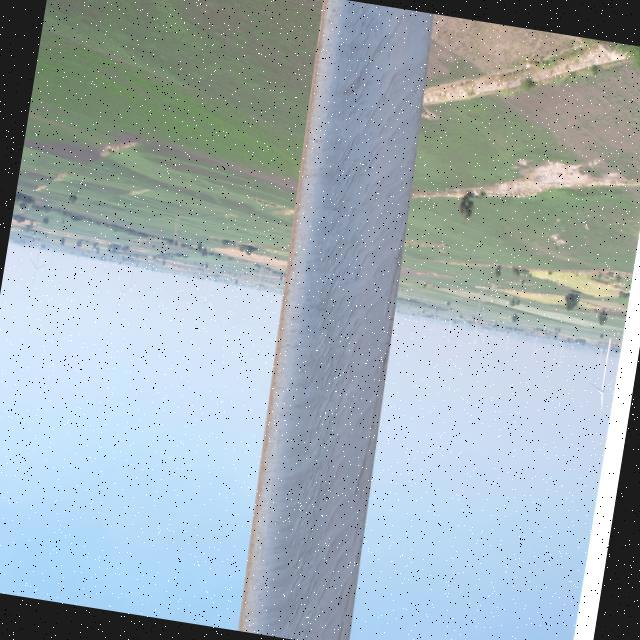Dirt: (248, 7, 433, 640)
